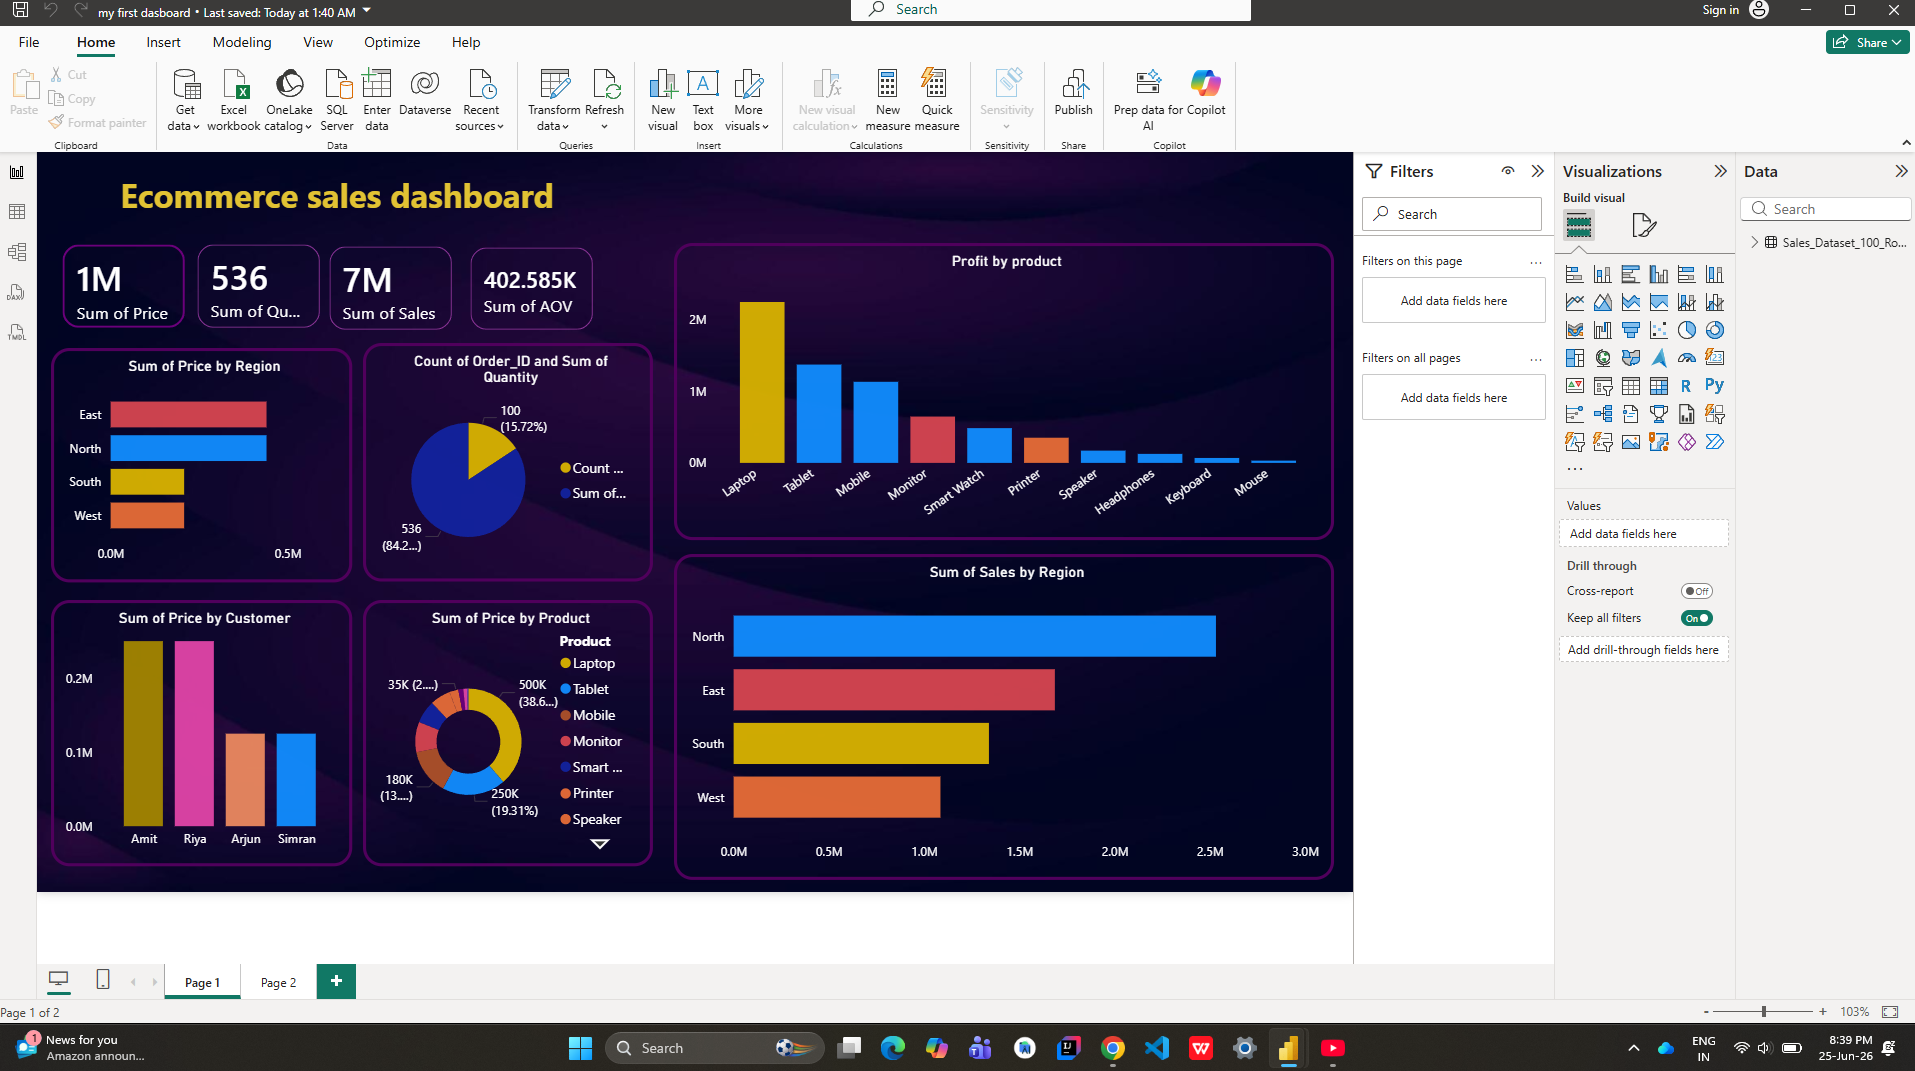

Layout of this report page (visuals, bound fields, positions):
{"tool":"powerbi","page":{"name":"Page 1","canvas":[1280,720],"ordinal":0},"visuals":[{"type":"textbox","box":[25.3,14.6,533,58.4],"z":0},{"type":"columnChart","title":"Profit by product","fields":{"Category":["Sales_Dataset_100_Rows.Product"],"Y":["Sum(Sales_Dataset_100_Rows.Sales)"]},"box":[619.6,88.5,641.9,288.9],"z":1000},{"type":"clusteredBarChart","fields":{"Category":["Sales_Dataset_100_Rows.Region"],"Y":["Sum(Sales_Dataset_100_Rows.Sales)"]},"box":[619.6,391,641.9,317.1],"z":2000},{"type":"donutChart","fields":{"Category":["Sales_Dataset_100_Rows.Product"],"Y":["Sum(Sales_Dataset_100_Rows.Price)"]},"box":[317.1,435.7,282.1,258.7],"z":3000},{"type":"pieChart","fields":{"Y":["CountNonNull(Sales_Dataset_100_Rows.Order_ID)","Sum(Sales_Dataset_100_Rows.Quantity)"]},"box":[317.4,186.2,282,232.3],"z":4000},{"type":"cardVisual","fields":{"Data":["Sum(Sales_Dataset_100_Rows.Price)"]},"box":[8,72.7,153,115],"z":5000},{"type":"cardVisual","fields":{"Data":["Sum(Sales_Dataset_100_Rows.Quantity)"]},"box":[139.2,72.7,153,115],"z":6000},{"type":"cardVisual","fields":{"Data":["Sum(Sales_Dataset_100_Rows.Sales)"]},"box":[267.8,74.5,153.4,115],"z":7000},{"type":"cardVisual","fields":{"Data":["Sum(Sales_Dataset_100_Rows.AOV)"]},"box":[404.6,75.9,153.7,114.8],"z":8000},{"type":"clusteredBarChart","fields":{"Category":["Sales_Dataset_100_Rows.Region"],"Y":["Sum(Sales_Dataset_100_Rows.Price)"]},"box":[13.6,190.6,292.8,227.6],"z":9000},{"type":"columnChart","fields":{"Category":["Sales_Dataset_100_Rows.Customer"],"Y":["Sum(Sales_Dataset_100_Rows.Price)"]},"box":[14,436,293,259],"z":10000}]}

Visuals, with their boxes on the page's 1280x720 design canvas (x1, y1, x2, y2). These are canvas units, not pixel positions in the 1915x1071 screenshot, which may show the page scaled, cropped or inside an application window:
textbox: detection(25, 15, 558, 73)
"Profit by product" columnChart: detection(620, 88, 1262, 377)
clusteredBarChart - Sales_Dataset_100_Rows.Region x Sum(Sales_Dataset_100_Rows.Sales): detection(620, 391, 1262, 708)
donutChart - Sales_Dataset_100_Rows.Product x Sum(Sales_Dataset_100_Rows.Price): detection(317, 436, 599, 694)
pieChart - CountNonNull(Sales_Dataset_100_Rows.Order_ID) x Sum(Sales_Dataset_100_Rows.Quantity): detection(317, 186, 599, 418)
cardVisual - Sum(Sales_Dataset_100_Rows.Price): detection(8, 73, 161, 188)
cardVisual - Sum(Sales_Dataset_100_Rows.Quantity): detection(139, 73, 292, 188)
cardVisual - Sum(Sales_Dataset_100_Rows.Sales): detection(268, 74, 421, 190)
cardVisual - Sum(Sales_Dataset_100_Rows.AOV): detection(405, 76, 558, 191)
clusteredBarChart - Sales_Dataset_100_Rows.Region x Sum(Sales_Dataset_100_Rows.Price): detection(14, 191, 306, 418)
columnChart - Sales_Dataset_100_Rows.Customer x Sum(Sales_Dataset_100_Rows.Price): detection(14, 436, 307, 695)
